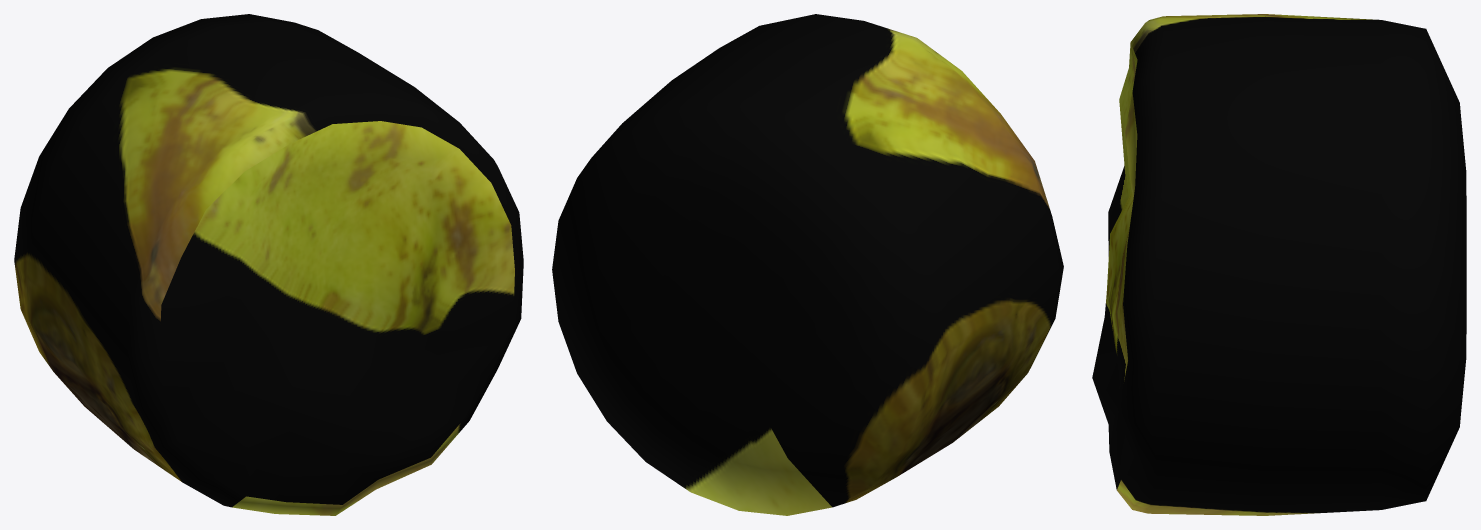
The picture shows the model from 3 angles, left to right: view 1: azimuth 30°, elevation 25°; view 2: azimuth 150°, elevation 25°; view 3: azimuth 270°, elevation 25°; orthographic projection. The views are drawn at different scales.
Bounding box in the file's own units: 0.7472 × 0.7472 × 0.5553.
